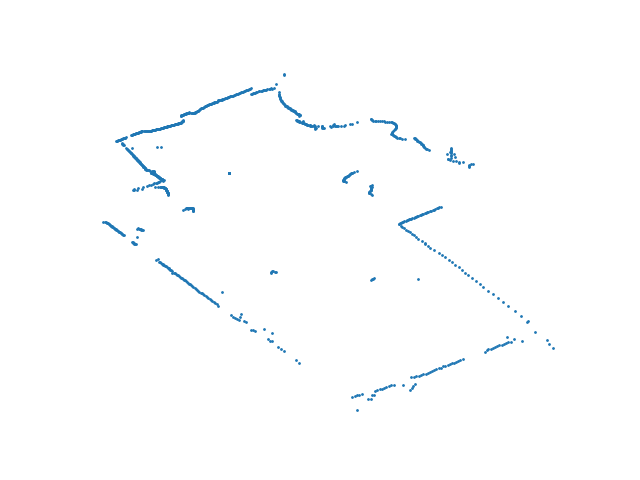person: (341, 169, 376, 199)
